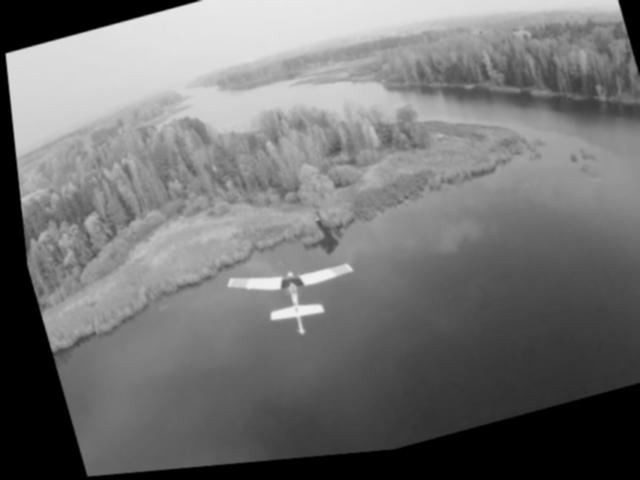hedef: (206, 240, 359, 354)
